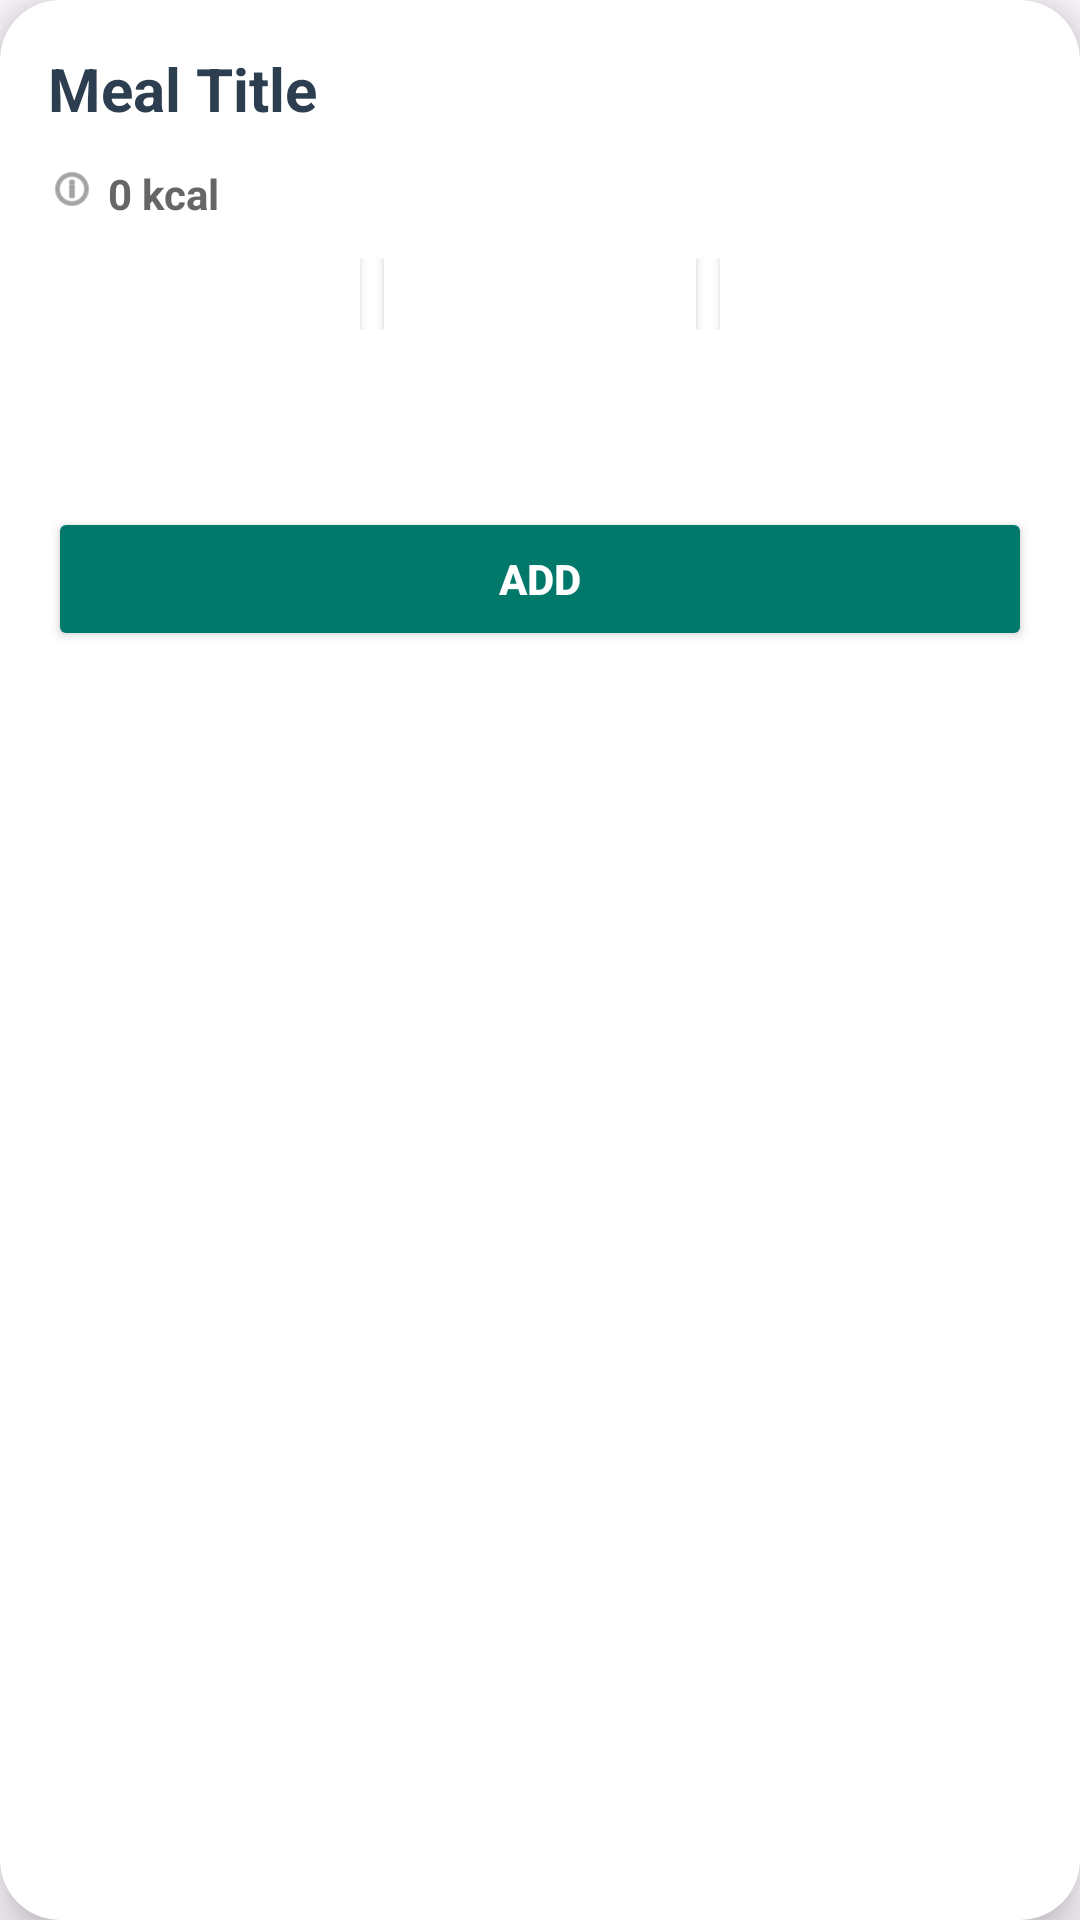

Named icons in this screenshot (1080 x 1920) and their bounding boxes, (x1, y1, x2, y2):
info details: (55, 172, 89, 206)
